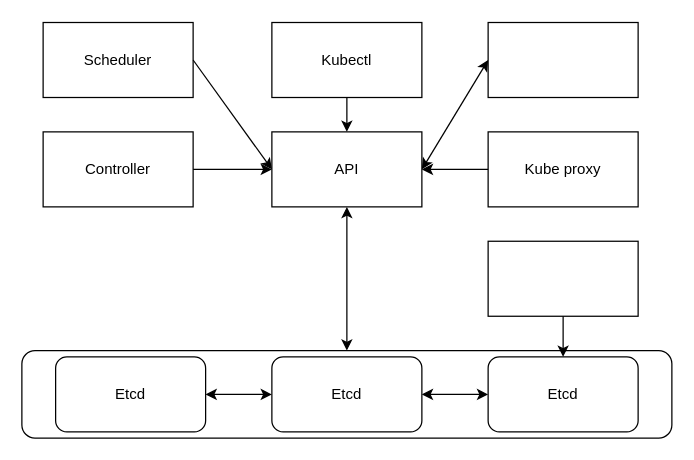
This 694x460 diagram has some shape labels left out. Here are the shapes that lost their labels. From the top down, the box of each, then its label:
(487, 21, 638, 98): Kubelet
(487, 240, 638, 316): Flannel
